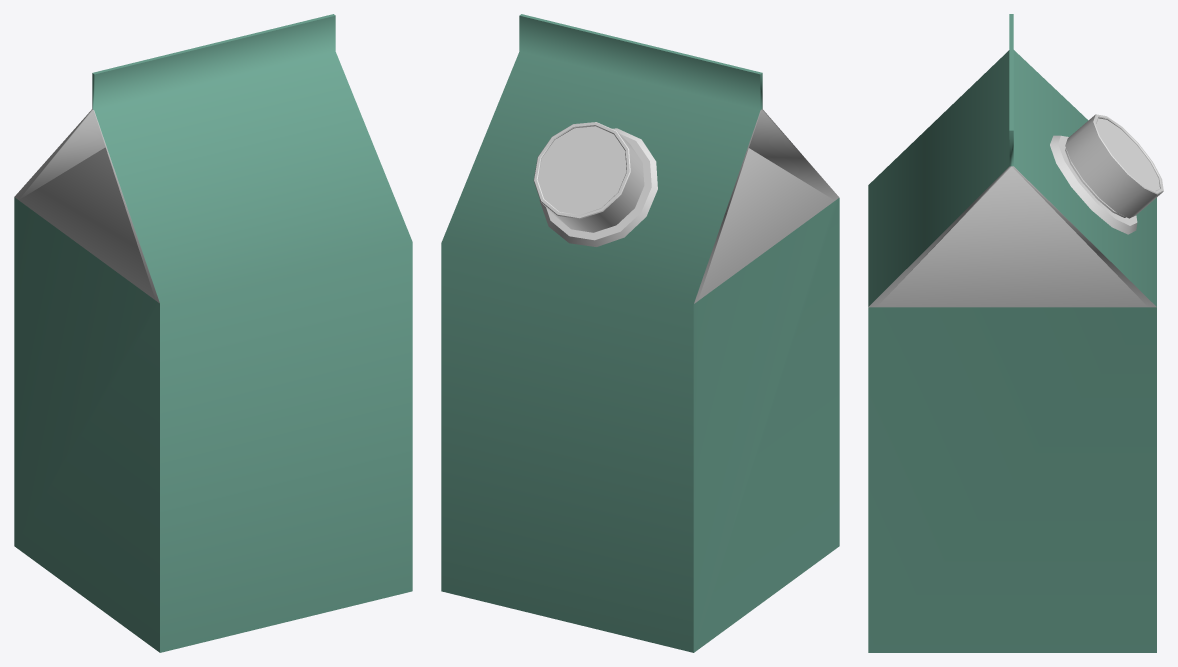
The model's file is Milk Carton.fbx.
3 renders of one model, left to right at view 1: azimuth 30°, elevation 25°; view 2: azimuth 150°, elevation 25°; view 3: azimuth 270°, elevation 25°, orthographic.
Parts seen in each view (by area): view 1: pCube2; view 2: pCube2; view 3: pCube2.
Part boxes in pixels (x1,y1,x2,y2): pCube2: (14, 14, 412, 652); pCube2: (441, 14, 839, 652); pCube2: (868, 14, 1163, 652).
Bounding box in the file's own units: 4.47 × 8.87 × 4.57.
